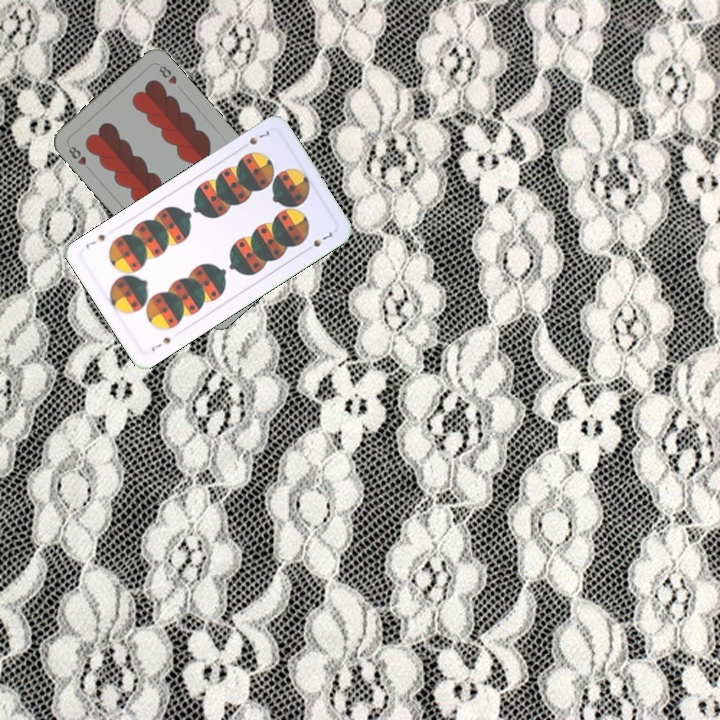H8: (64, 142, 89, 168)
S7: (237, 125, 272, 152), (147, 333, 173, 354)
